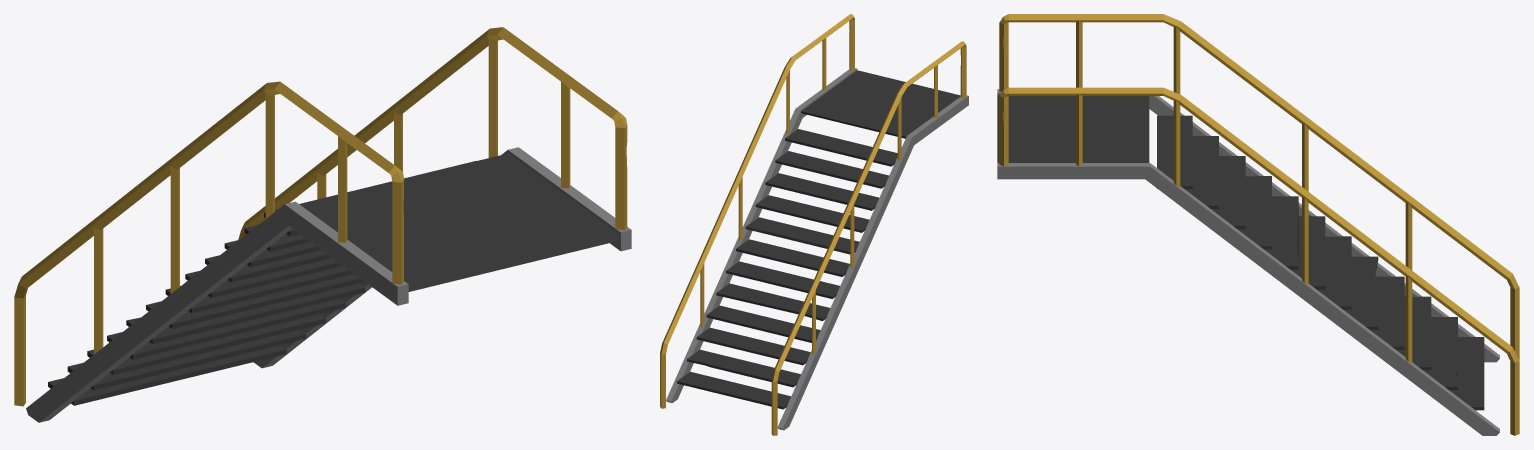
Rendered from model_stairs.fbx.
3 renders of one model, left to right at view 1: azimuth 30°, elevation 25°; view 2: azimuth 150°, elevation 25°; view 3: azimuth 270°, elevation 25°, orthographic. The views are drawn at different scales.
Visible parts, largest first — view 1: model_stairs; view 2: model_stairs; view 3: model_stairs.
Boxes of the visible parts, x1=… form: model_stairs: x1=14, y1=27, x2=631, y2=422; model_stairs: x1=660, y1=14, x2=968, y2=435; model_stairs: x1=997, y1=14, x2=1519, y2=435.
Bounding box in the file's own units: 240 × 501 × 684.
1 material, 1 textured.
